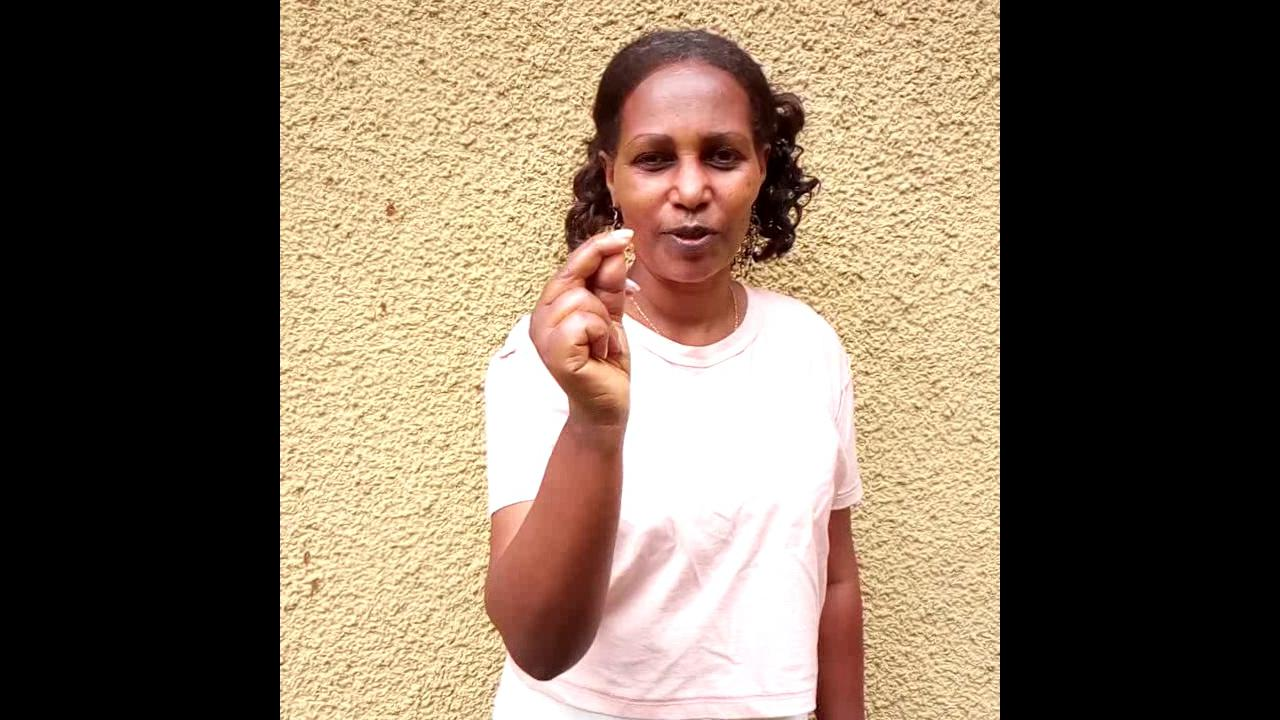CHE: (530, 229, 644, 506)
